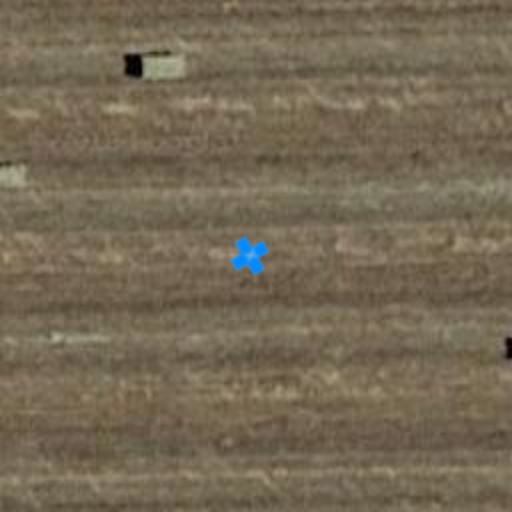cross: (224, 230, 276, 282)
